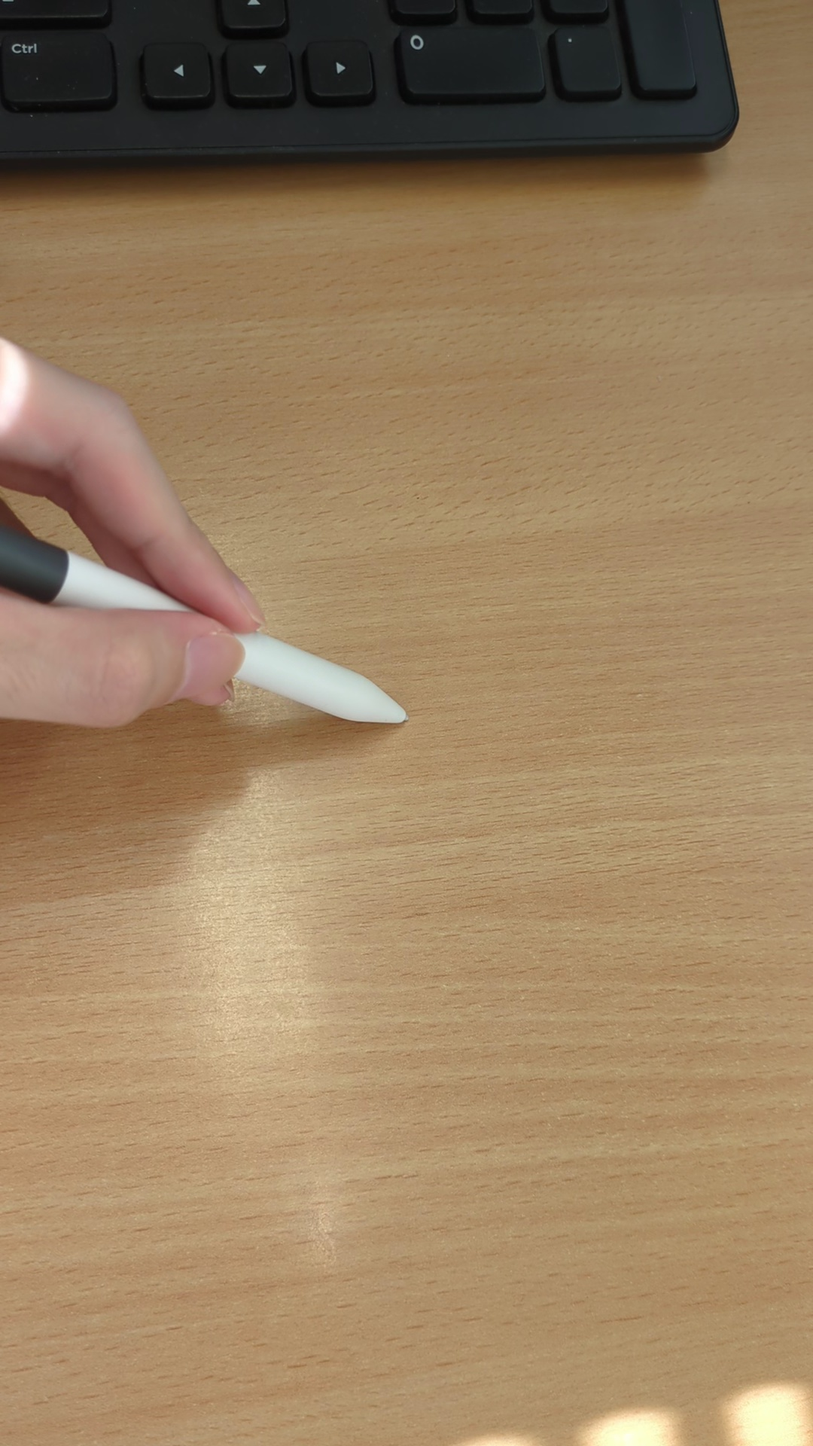pen: (5, 523, 417, 734)
tip: (338, 673, 418, 740)
